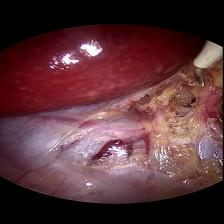Hook: (187, 37, 224, 88)
